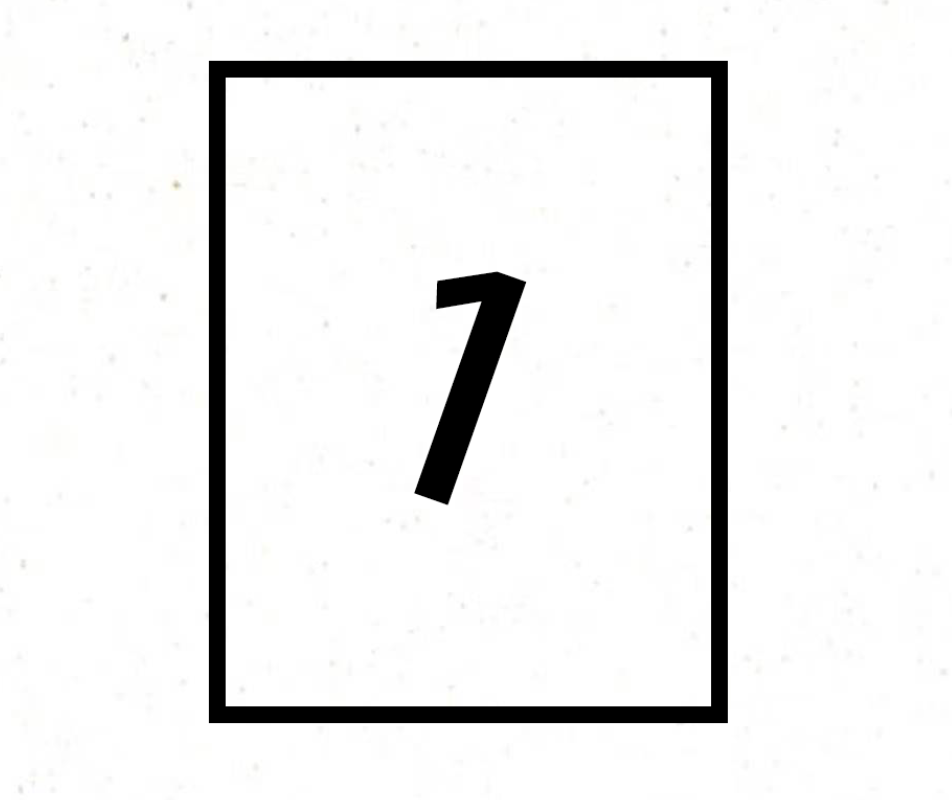one: (377, 214, 552, 549)
